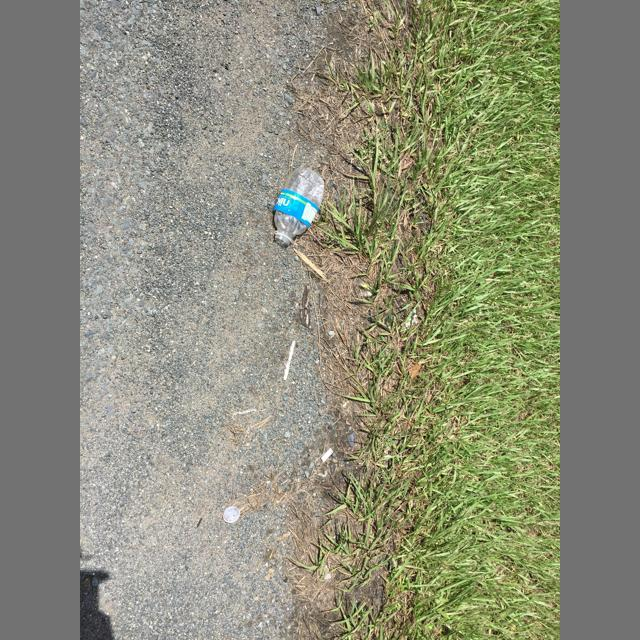litter: (274, 167, 324, 246), (284, 340, 296, 381), (223, 506, 240, 523), (322, 447, 332, 463)
